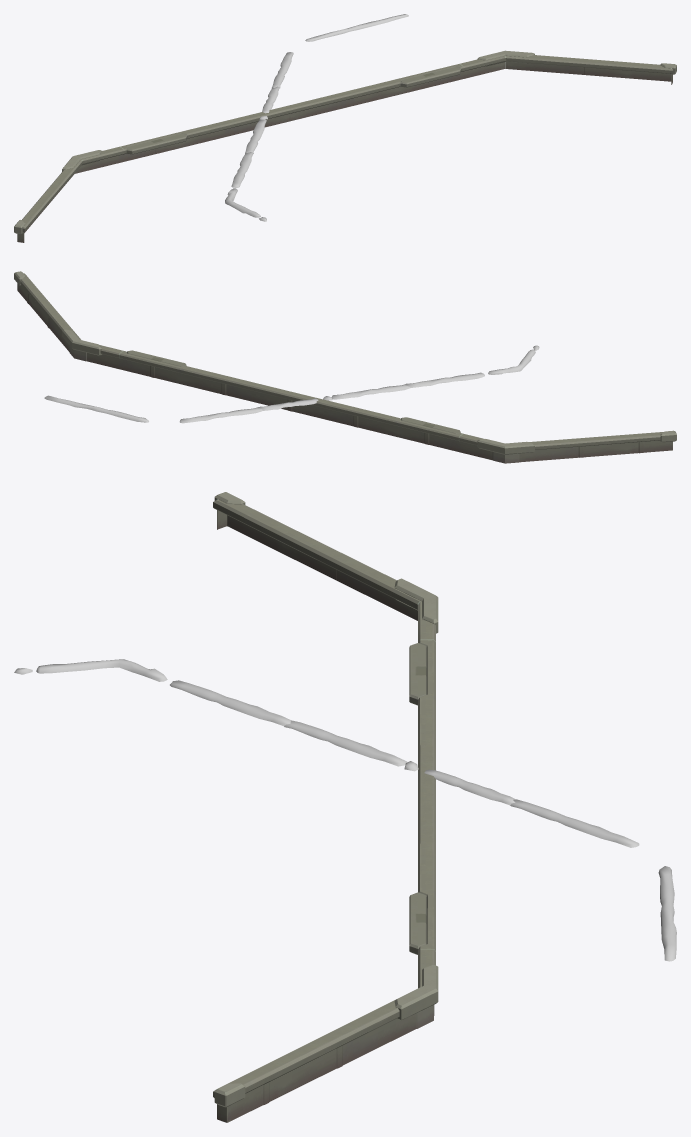
Rendered from pref_sm_city_railing01_snow_lv3.fbx.
3 views of the same model, one above another, from view 1: azimuth 30°, elevation 25°; view 2: azimuth 150°, elevation 25°; view 3: azimuth 270°, elevation 25° (orthographic). The views are drawn at different scales.
Parts seen in each view (by area): view 1: sm_city_railing01_snow_lv3, sm_city_railing01b_snow_lv3; view 2: sm_city_railing01_snow_lv3, sm_city_railing01b_snow_lv3; view 3: sm_city_railing01_snow_lv3, sm_city_railing01b_snow_lv3.
Boxes of the visible parts, x1=… form: sm_city_railing01_snow_lv3: x1=14, y1=50, x2=676, y2=242; sm_city_railing01b_snow_lv3: x1=225, y1=14, x2=408, y2=221; sm_city_railing01_snow_lv3: x1=14, y1=271, x2=676, y2=463; sm_city_railing01b_snow_lv3: x1=44, y1=345, x2=539, y2=423; sm_city_railing01_snow_lv3: x1=213, y1=492, x2=438, y2=1122; sm_city_railing01b_snow_lv3: x1=14, y1=659, x2=676, y2=961.
Bounding box in the file's own units: 56.47 × 1.51 × 26.24.
